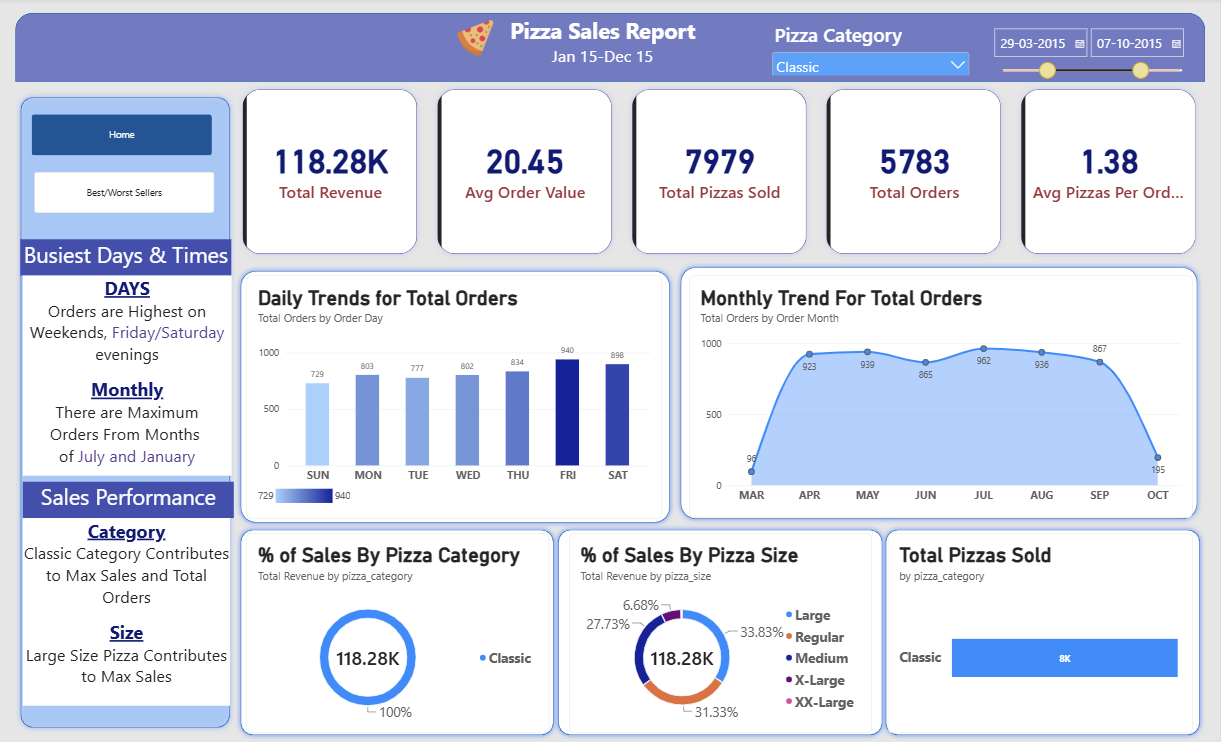

This screenshot's page, from the dashboard's own definition file:
{"tool":"powerbi","page":{"name":"Home","canvas":[1800,1100],"ordinal":0},"visuals":[{"type":"cardVisual","fields":{"Data":["pizza_sales_excel_file.Total Revenue","pizza_sales_excel_file.Avg Order Value","pizza_sales_excel_file.Total Pizzas Sold","pizza_sales_excel_file.Total Orders","pizza_sales_excel_file.Avg Pizzas Per Order"]},"box":[348.4,123.5,1430.5,265.5],"z":0},{"type":"shape","box":[24,22.1,1754.7,101.4],"z":1000},{"type":"textbox","box":[672.8,25.8,435,92.2],"z":2000},{"type":"image","box":[670.9,31.3,63.3,55.6],"z":3000},{"type":"shape","box":[348.4,394.4,648.8,387.1],"z":4000},{"type":"columnChart","title":"Daily Trends for Total Orders","fields":{"Category":["pizza_sales_excel_file.Order Day"],"Y":["pizza_sales_excel_file.Total Orders"]},"box":[364.9,409.2,613.1,358.3],"z":5000},{"type":"shape","box":[997.2,388.9,777.8,387.1],"z":6000},{"type":"areaChart","title":"Monthly Trend For Total Orders","fields":{"Category":["pizza_sales_excel_file.Order Month"],"Y":["pizza_sales_excel_file.Total Orders"]},"box":[1017.4,409.2,742.8,357.6],"z":7000},{"type":"shape","box":[348.4,776,477.4,318.9],"z":8000},{"type":"shape","box":[816.5,776,494,318.9],"z":9000},{"type":"shape","box":[1299.4,776,479.2,318.9],"z":10000},{"type":"donutChart","title":"% of Sales By Pizza Category ","fields":{"Category":["pizza_sales_excel_file.pizza_category"],"Y":["pizza_sales_excel_file.Total Revenue"]},"box":[364.9,788.9,446,294.9],"z":11000},{"type":"donutChart","title":"% of Sales By Pizza Size","fields":{"Category":["pizza_sales_excel_file.pizza_size"],"Y":["pizza_sales_excel_file.Total Revenue"]},"box":[840.5,788.9,446,294.9],"z":12000},{"type":"funnel","fields":{"Category":["pizza_sales_excel_file.pizza_category"],"Y":["pizza_sales_excel_file.Total Pizzas Sold"]},"box":[1310.5,788.9,449.7,294.9],"z":13000},{"type":"shape","box":[24,138.2,324.4,945.5],"z":14000},{"type":"textbox","box":[30.9,355.1,311.5,53.5],"z":15000},{"type":"textbox","box":[34.7,409.1,307.8,294.9],"z":15001},{"type":"textbox","box":[34.7,714,311.5,53.5],"z":15002},{"type":"textbox","box":[34.7,766.1,306,276.5],"z":15003},{"type":"slicer","fields":{"Values":["pizza_sales_excel_file.pizza_category"]},"box":[1135.4,35,300.4,79.3],"z":15004},{"type":"slicer","fields":{"Values":["pizza_sales_excel_file.order_date"]},"box":[1459.8,25.8,300.4,99.5],"z":15005},{"type":"pageNavigator","box":[48.2,171.7,266.3,61.7],"z":15006},{"type":"pageNavigator","box":[52.1,256.6,266.3,61.7],"z":15007}]}

Visuals, with their boxes in screenshot pixels (x1, y1, x2, y2), scaled from the page's 1800x1100 canvas onto the 1221x742 screenshot:
cardVisual - pizza_sales_excel_file.Total Revenue x pizza_sales_excel_file.Avg Order Value: box=[236, 83, 1207, 262]
shape: box=[16, 15, 1207, 83]
textbox: box=[456, 17, 751, 80]
image: box=[455, 21, 498, 59]
shape: box=[236, 266, 676, 527]
"Daily Trends for Total Orders" columnChart: box=[248, 276, 663, 518]
shape: box=[676, 262, 1204, 523]
"Monthly Trend For Total Orders" areaChart: box=[690, 276, 1194, 517]
shape: box=[236, 523, 560, 739]
shape: box=[554, 523, 889, 739]
shape: box=[881, 523, 1206, 739]
"% of Sales By Pizza Category " donutChart: box=[248, 532, 550, 731]
"% of Sales By Pizza Size" donutChart: box=[570, 532, 873, 731]
funnel - pizza_sales_excel_file.pizza_category x pizza_sales_excel_file.Total Pizzas Sold: box=[889, 532, 1194, 731]
shape: box=[16, 93, 236, 731]
textbox: box=[21, 240, 232, 276]
textbox: box=[24, 276, 232, 475]
textbox: box=[24, 482, 235, 518]
textbox: box=[24, 517, 231, 703]
slicer - pizza_sales_excel_file.pizza_category: box=[770, 24, 974, 77]
slicer - pizza_sales_excel_file.order_date: box=[990, 17, 1194, 85]
pageNavigator: box=[33, 116, 213, 157]
pageNavigator: box=[35, 173, 216, 215]
